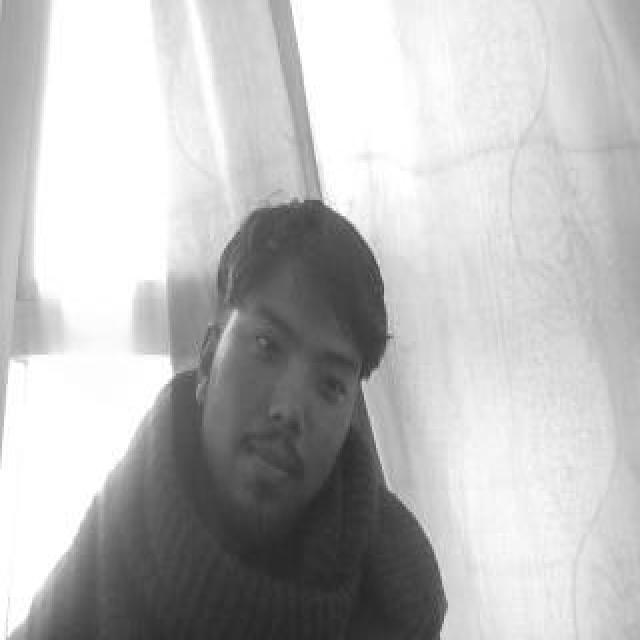Focused: (203, 251, 365, 549)
